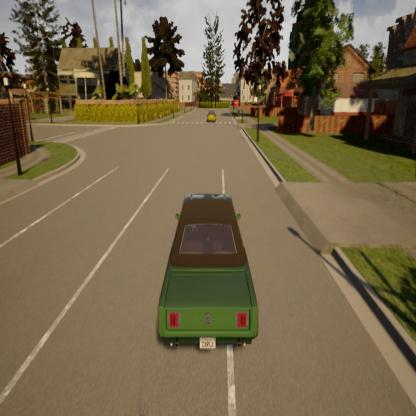Cars: (156, 192, 259, 353), (207, 108, 217, 122), (232, 96, 241, 110)
